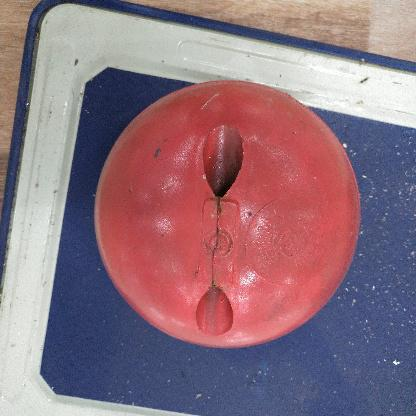red_buoy: (93, 78, 363, 350)
